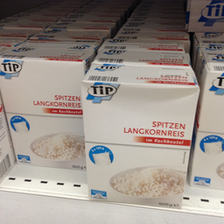rice: (79, 64, 200, 209), (1, 46, 94, 169)
